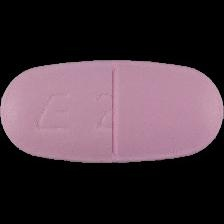63629-1809: (0, 0, 224, 224)
